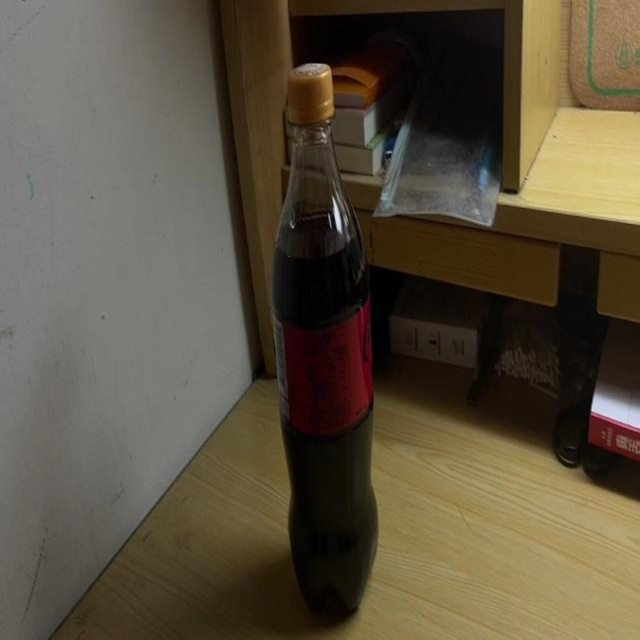Coca-Cola: (271, 58, 381, 625)
